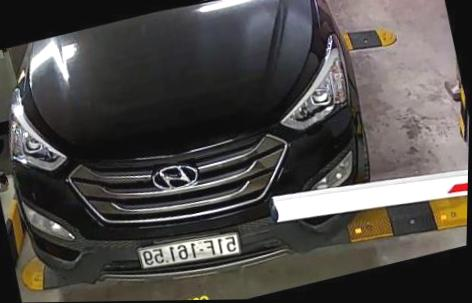License_Plate: (134, 230, 242, 272)
